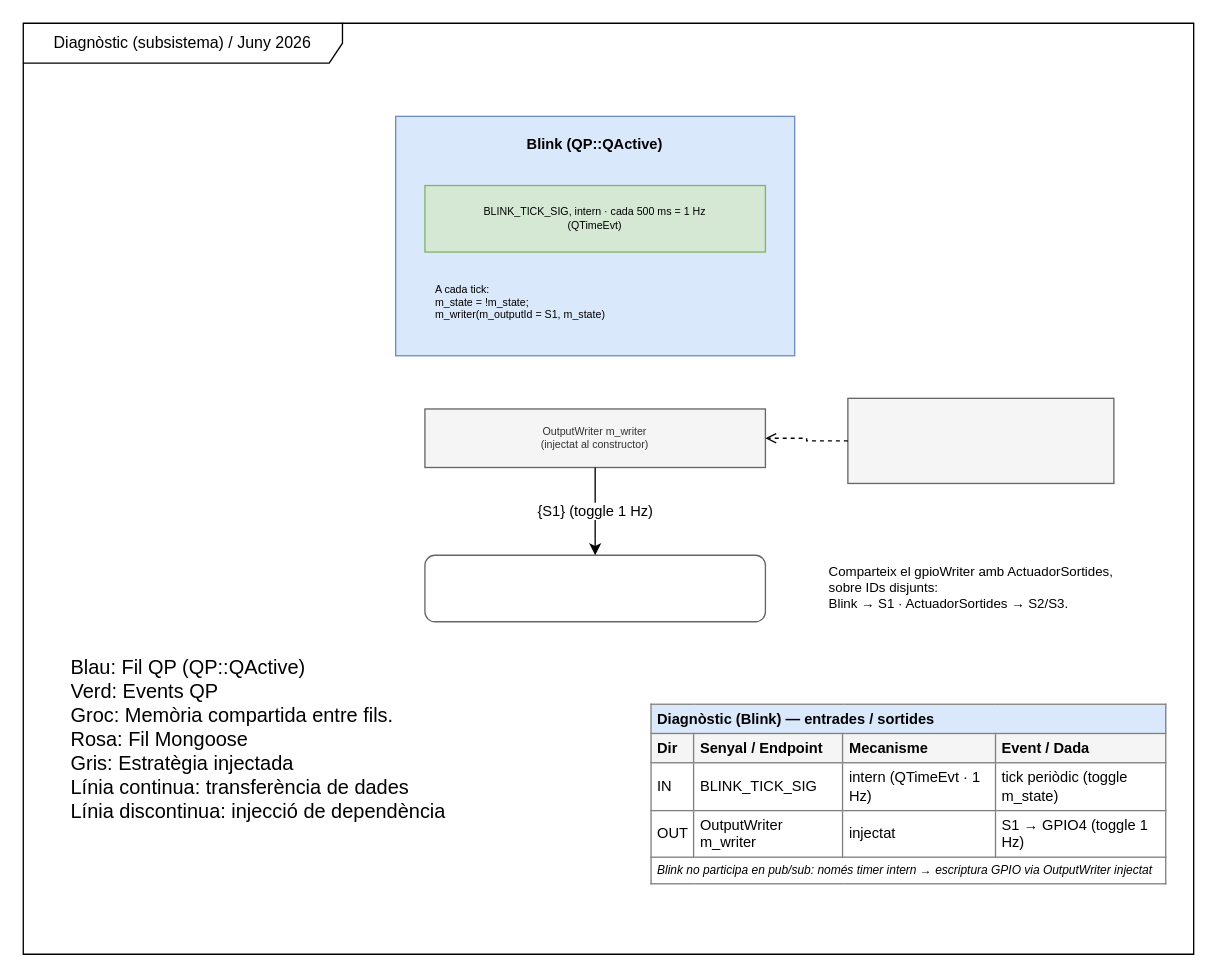
Some shapes in this 1217 by 978 pixel diagram are drawn without their labels. Here are the shapes that lost their labels. From the top down, the centre of each, then its label:
At point (980, 440): "makeGPIOWriter() — ESP32 S1 → GPIO4 (LED blau) OutputWriter_HW.hpp".
At point (594, 588): "S1 → GPIO4 (LED blau · heartbeat)".
